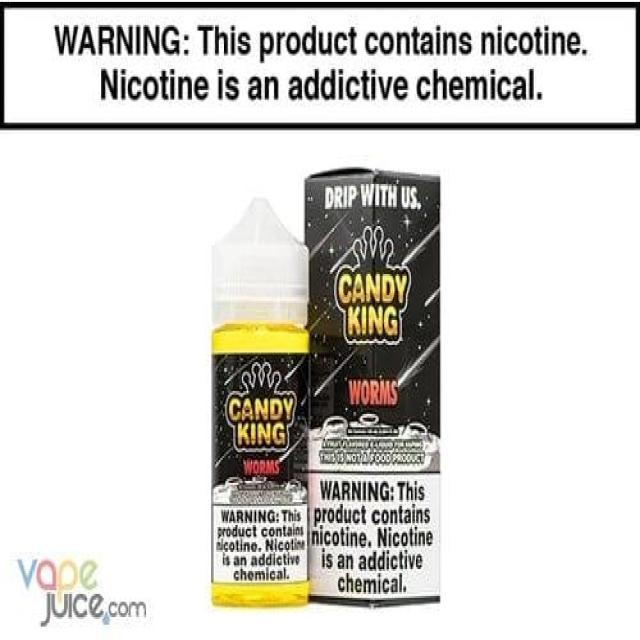Hazard: (304, 165, 442, 607), (209, 193, 311, 608)
